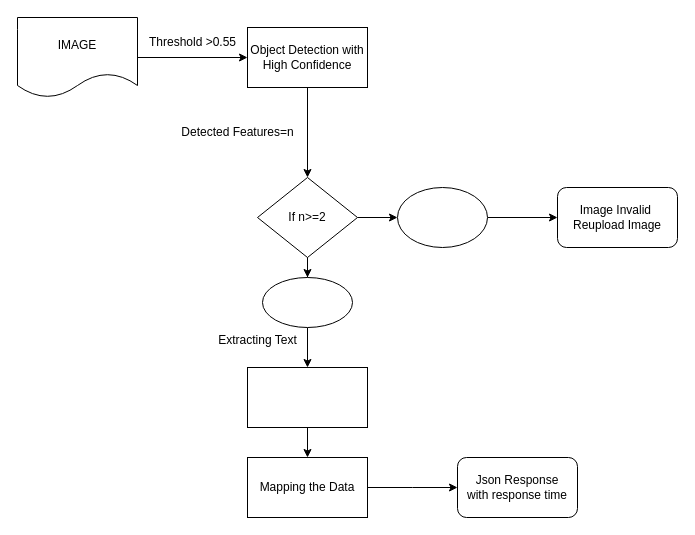
Image size: 695x535. Some labels were removed from this diagram. Each missing label, with the centre of its shape:
No: pixel 442 217
OCR: pixel 307 397
Yes: pixel 307 302
